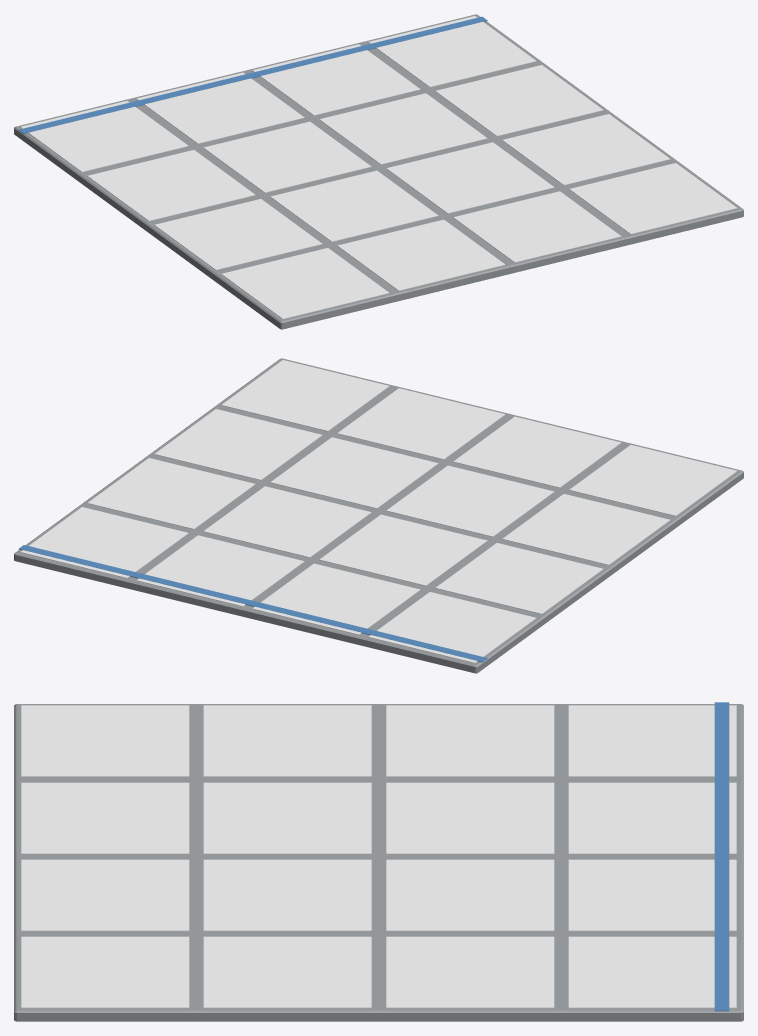
The model's file is community-sports-hall-and-changing-rooms-changing-room-9b1d0cd4__35111.glb.
The picture shows the model from 3 angles, top to bottom: view 1: azimuth 30°, elevation 25°; view 2: azimuth 150°, elevation 25°; view 3: azimuth 270°, elevation 25°; orthographic projection. The views are drawn at different scales.
Parts seen in each view (by area): view 1: changing-room-floor-panel; view 2: changing-room-floor-panel; view 3: changing-room-floor-panel.
Boxes of the visible parts, bbox=[...] form: changing-room-floor-panel: bbox=[14, 14, 743, 329]; changing-room-floor-panel: bbox=[14, 358, 743, 673]; changing-room-floor-panel: bbox=[14, 702, 743, 1021].
Bounding box in the file's own units: 2 × 0.0364 × 2.
